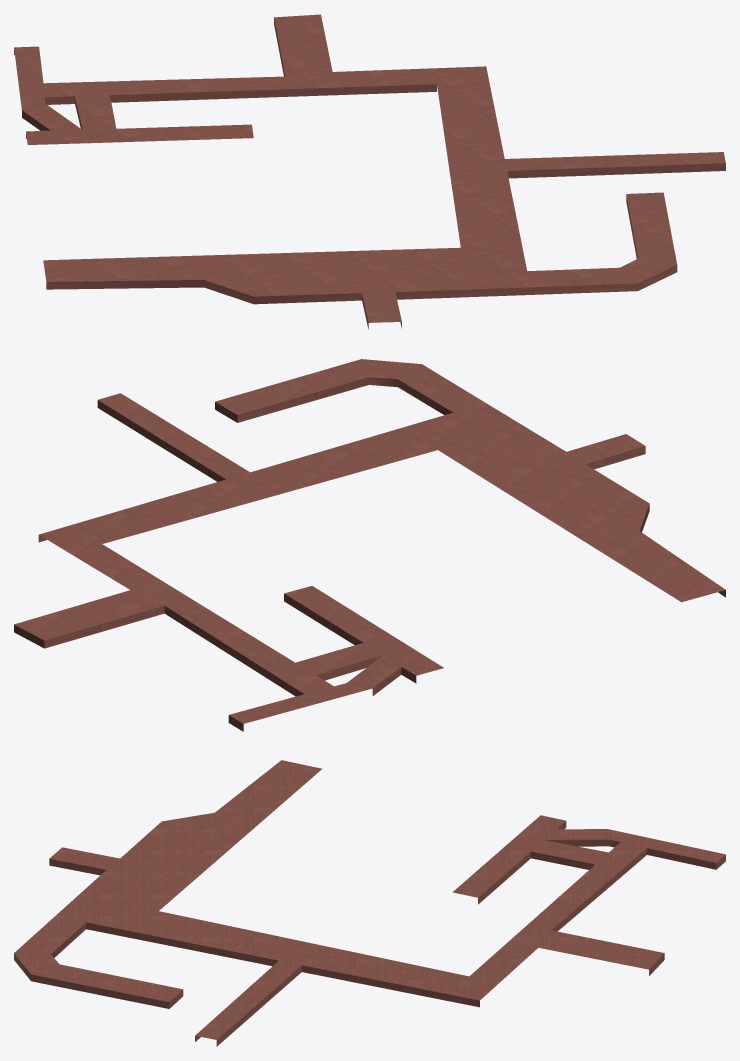
Rendered from road_p10_08.fbx.
3 views of the same model, one above another, from view 1: azimuth 30°, elevation 25°; view 2: azimuth 150°, elevation 25°; view 3: azimuth 270°, elevation 25° (orthographic). The views are drawn at different scales.
Visible parts, largest first — view 1: road_p10_08; view 2: road_p10_08; view 3: road_p10_08.
Boxes of the visible parts, x1=… form: road_p10_08: x1=14, y1=14, x2=725, y2=329; road_p10_08: x1=14, y1=359, x2=725, y2=731; road_p10_08: x1=14, y1=760, x2=725, y2=1046.
Size of the model in its own units: 4400 by 50 by 4730.
